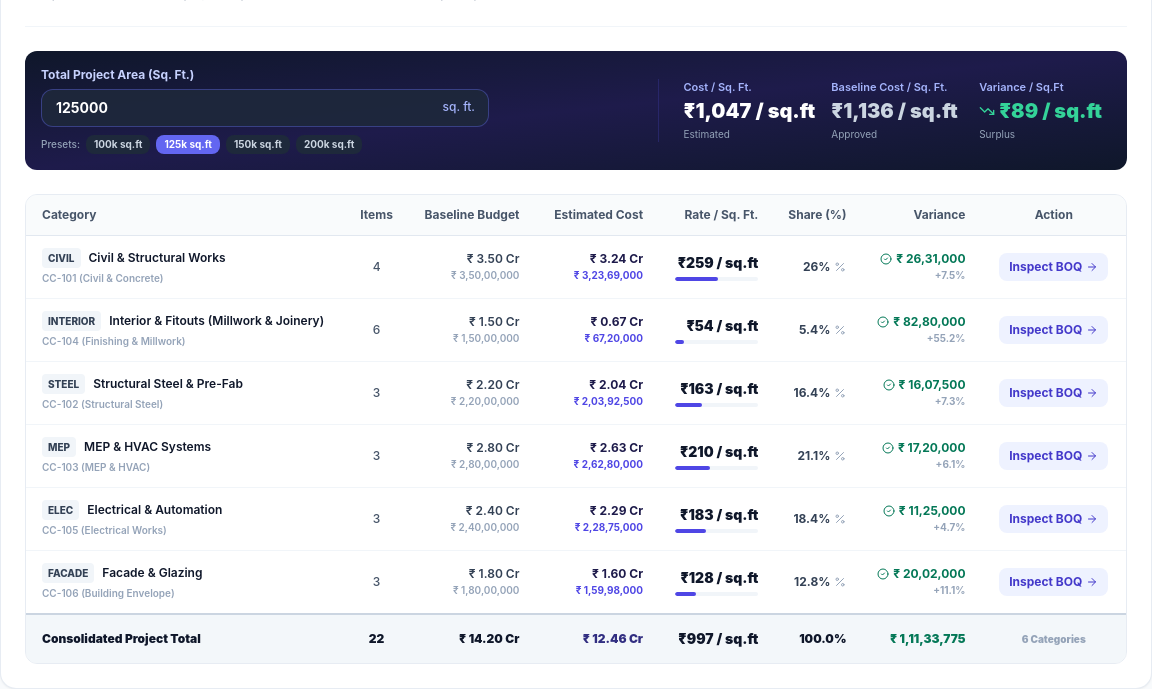
Test: BudgetPlanningModule Component & Budget System › clicks "Inspect BOQ" from the summary table to jump directly to detailed category view
This screenshot has width=1152, height=689.
(page scrolled)
Click Inspect BOQ for Interior & Fitouts (row index 1: Civil is 0, Interior is 1)
Step 1. Click the button "Inspect BOQ" in the row of "Interior & Fitouts (Millwork & Joinery)" → (1054,330), box [999,316,1108,344]
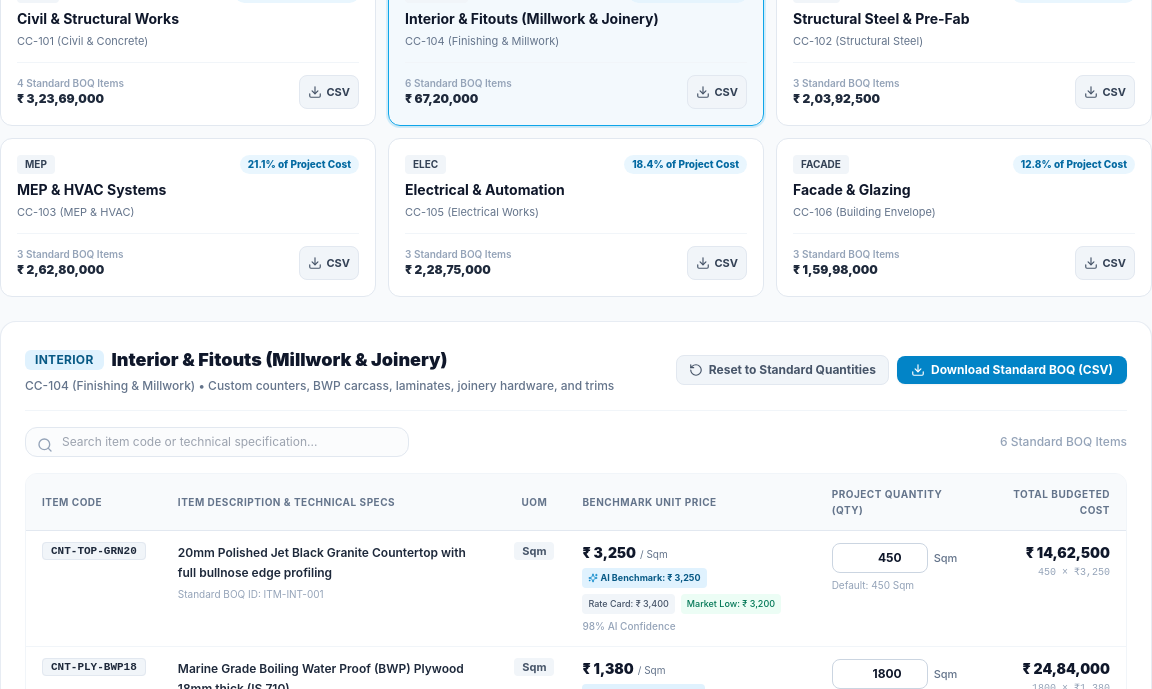
Now the text "CNT-TOP-GRN20" is shown, box [42,542,146,560]
Now the text "CNT-PLY-BWP18" is shown, box [42,658,146,676]
